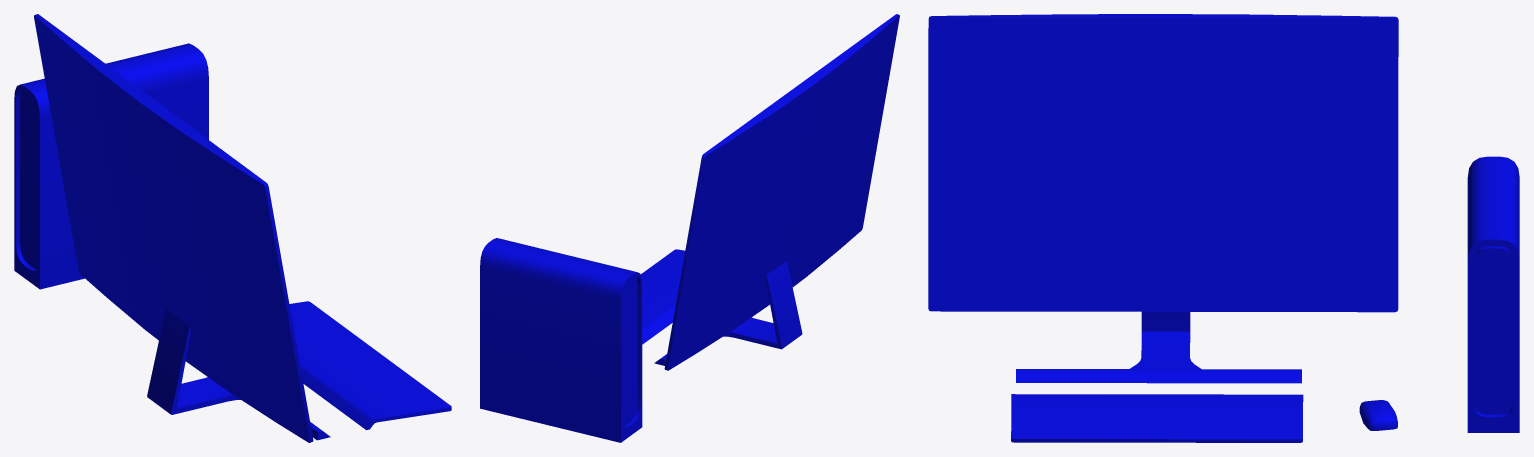
3 renders of one model, left to right at view 1: azimuth 30°, elevation 25°; view 2: azimuth 150°, elevation 25°; view 3: azimuth 270°, elevation 25°, orthographic. The views are drawn at different scales.
Visible parts, largest first — view 1: Desktop_PC; view 2: Desktop_PC; view 3: Desktop_PC.
Part boxes in pixels (x1,y1,x2,y2): Desktop_PC: [14, 14, 451, 442]; Desktop_PC: [480, 14, 899, 442]; Desktop_PC: [928, 14, 1519, 442].
Bounding box in the file's own units: 9.32 × 11.71 × 19.95.
